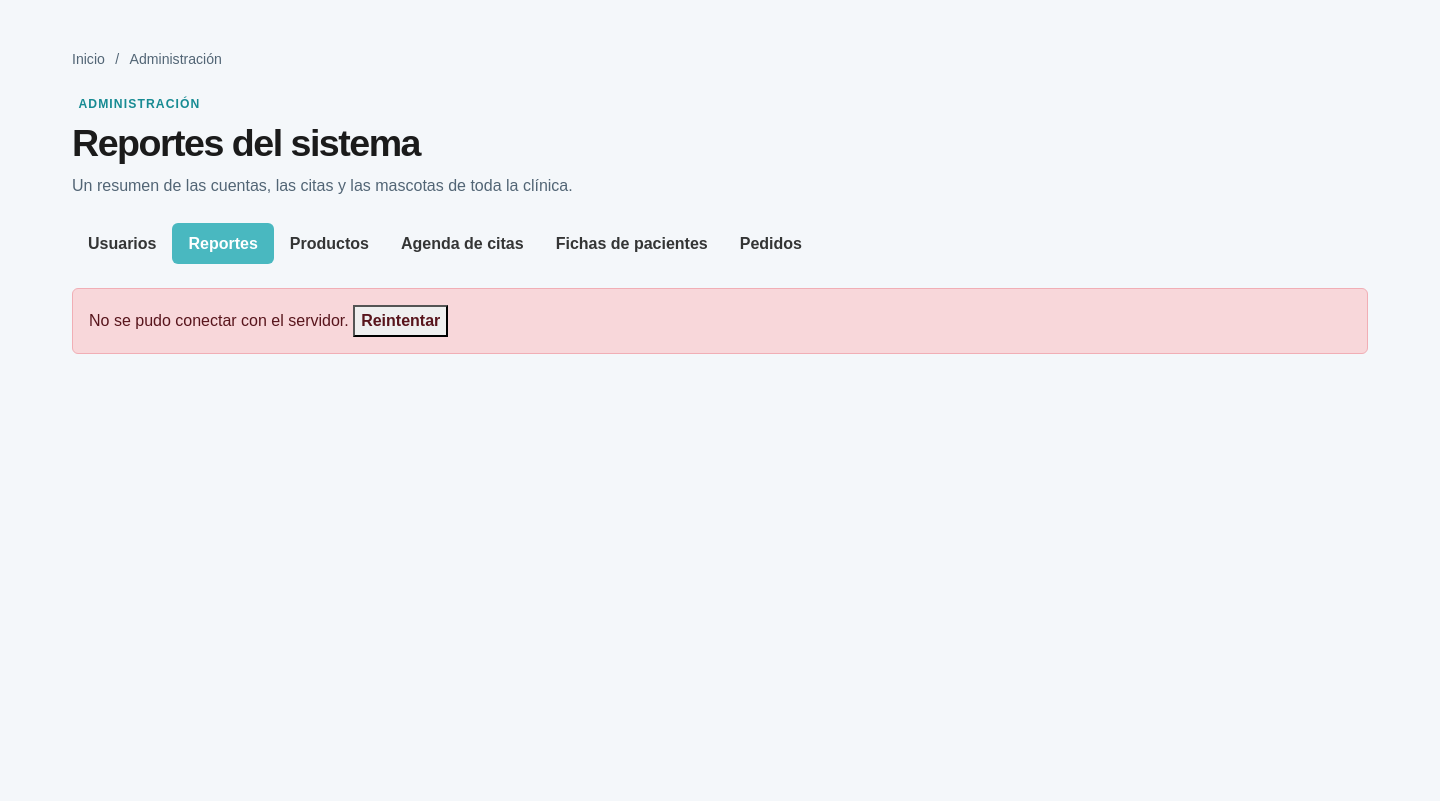
Test: Reportes (administración) › muestra el error de carga y permite reintentar
The width and height of the screenshot is (1440, 801).
Expected: the message shows "No se pudo conectar con el servidor.", [89,312,349,329]
Click the button "Reintentar" at (401, 321), box [353,305,448,337]
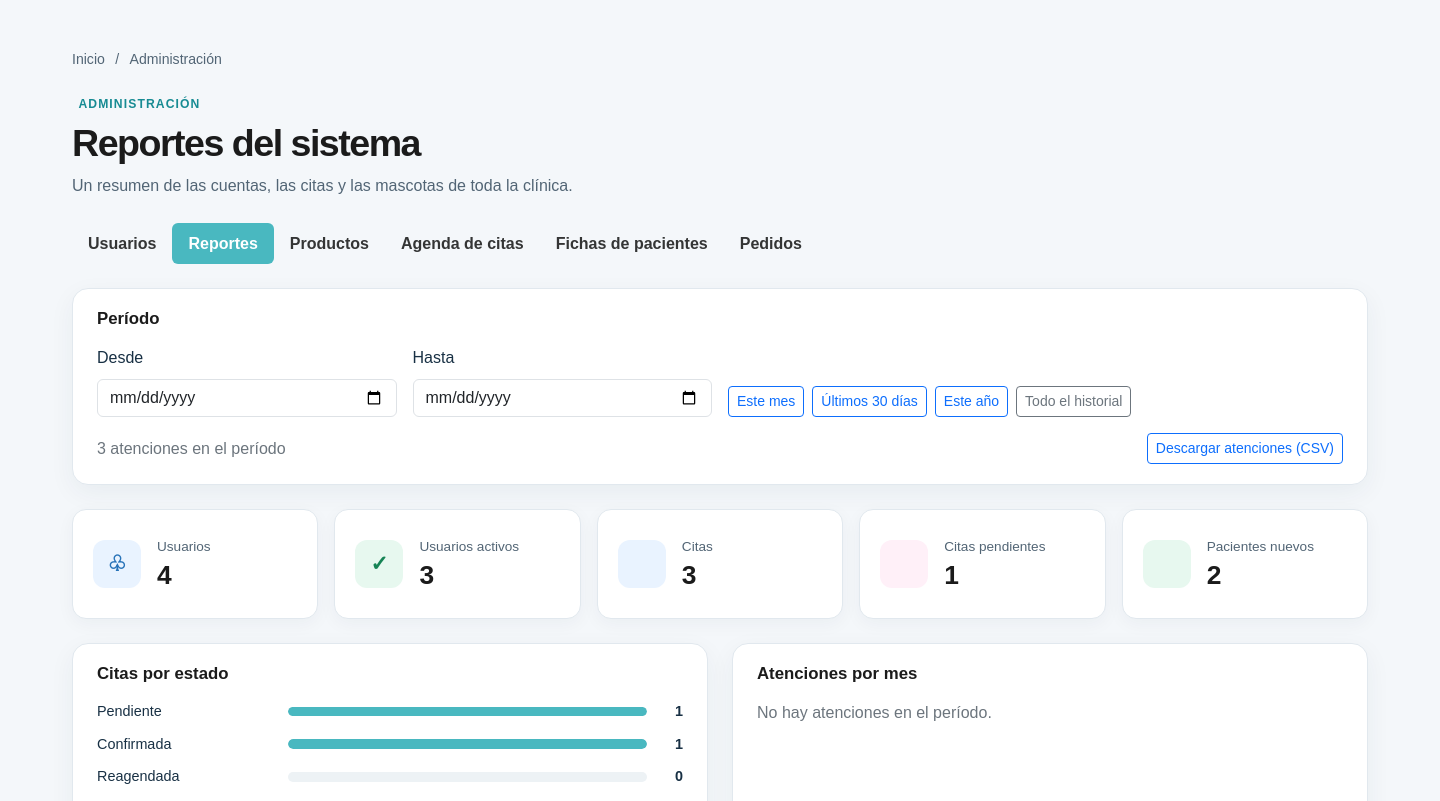
Expected: the element named "Totales" is shown, [64,493,1376,619]
